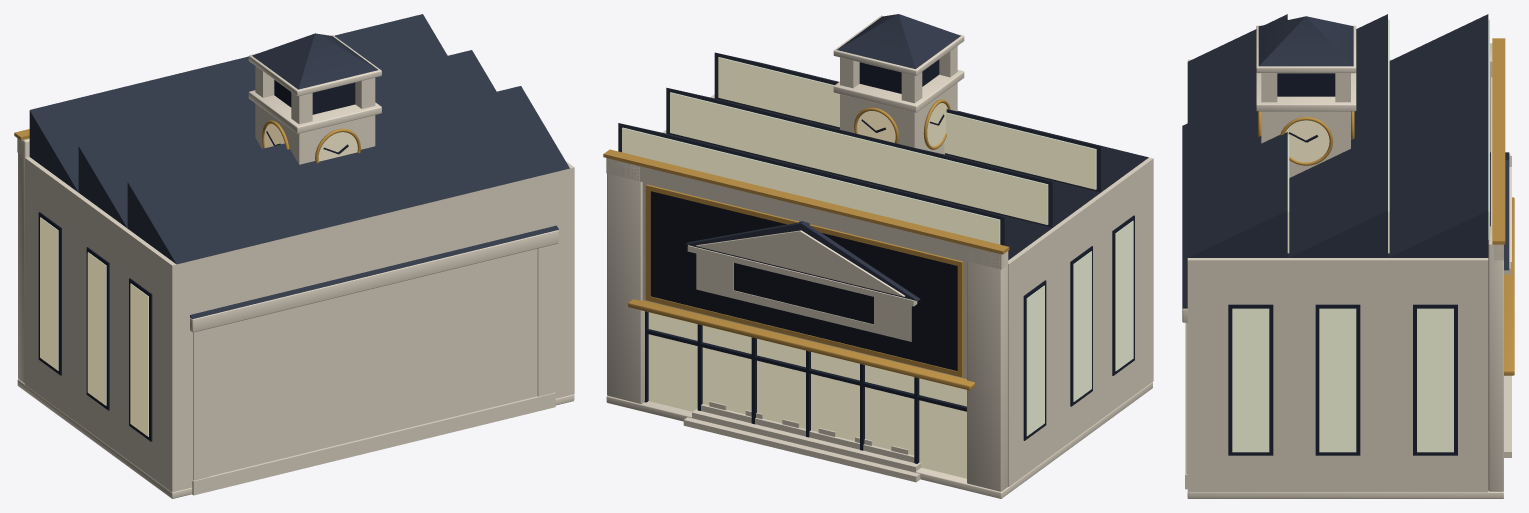
File: landmarks.glb
3 views of the same model, side by side, from view 1: azimuth 30°, elevation 25°; view 2: azimuth 150°, elevation 25°; view 3: azimuth 270°, elevation 25° (orthographic). The views are drawn at different scales.
Visible parts, largest first — view 1: projects_hall_mesh, campus_mesh; view 2: projects_hall_mesh, campus_mesh; view 3: projects_hall_mesh, campus_mesh.
Part boxes in pixels (left/top/right/bottom): projects_hall_mesh: left=14, top=14, right=574, bottom=498; campus_mesh: left=190, top=33, right=558, bottom=495; projects_hall_mesh: left=603, top=52, right=1153, bottom=498; campus_mesh: left=683, top=14, right=964, bottom=482; projects_hall_mesh: left=1187, top=14, right=1514, bottom=498; campus_mesh: left=1182, top=16, right=1511, bottom=489.
Size of the model in its own units: 18.2 by 16 by 12.6.
